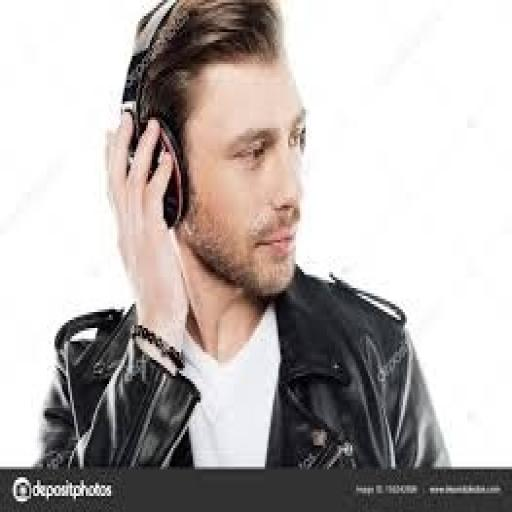listening_to_music: (35, 0, 456, 472)
